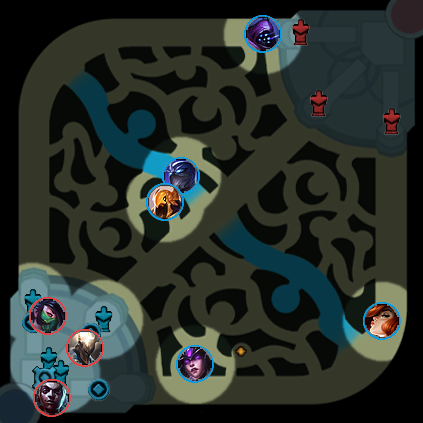Akali: (29, 297, 67, 335)
Azir: (146, 183, 184, 221)
Ekko: (33, 379, 71, 417)
Jax: (244, 15, 282, 53)
MissFortune: (363, 302, 401, 340)
Pantheon: (66, 329, 104, 367)
Shen: (162, 157, 200, 195)
Syndra: (176, 345, 214, 383)
